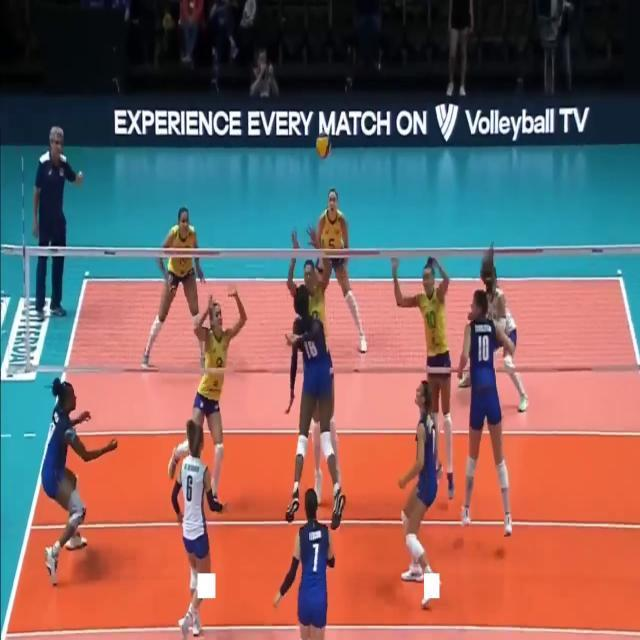volleyball: (316, 132, 331, 160)
